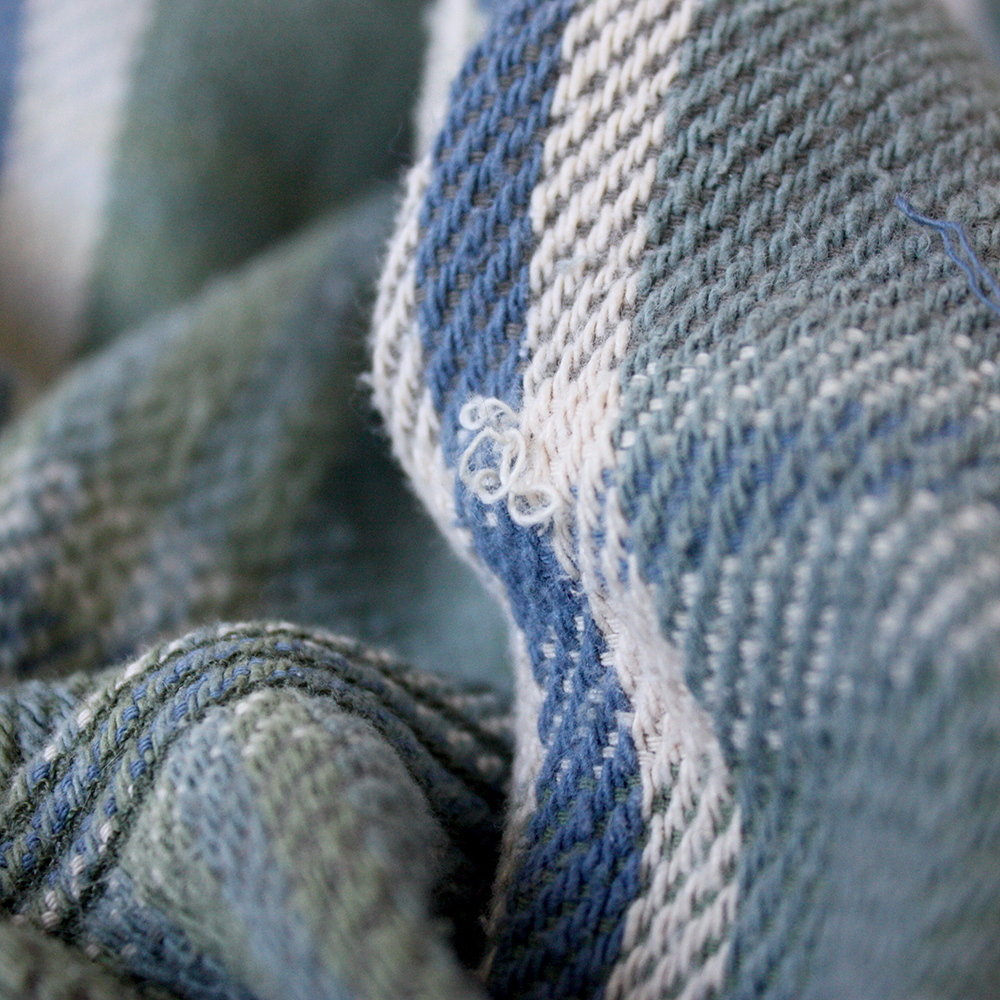snag: (450, 379, 580, 554)
